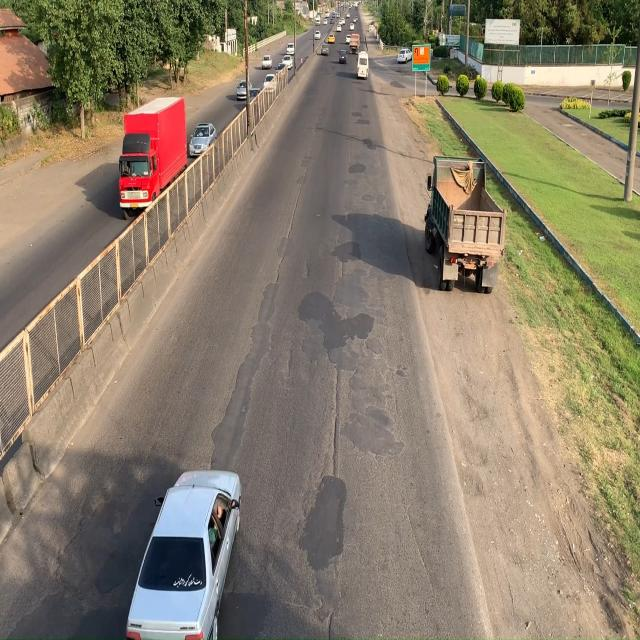Truck: (424, 156, 508, 298), (118, 103, 182, 210)
cars: (124, 466, 243, 640), (190, 123, 216, 157)
